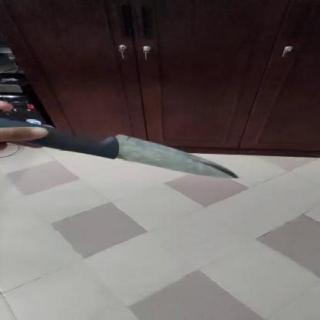knife: (82, 130, 240, 183)
